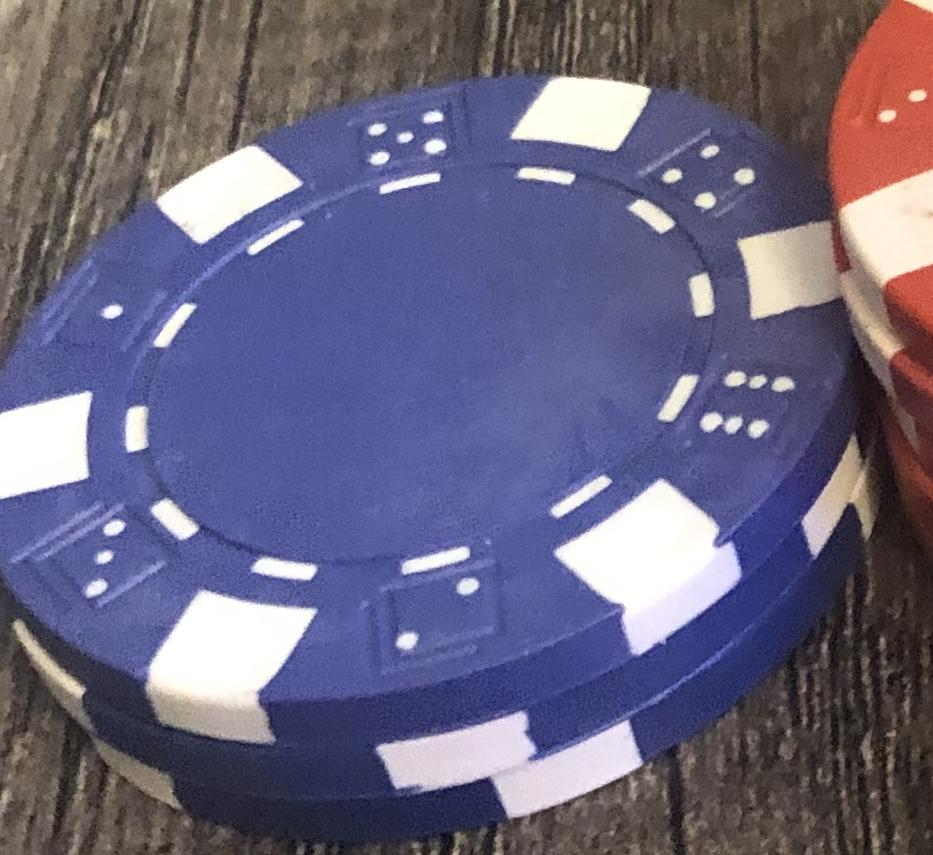Chip: (1, 1, 933, 855)
